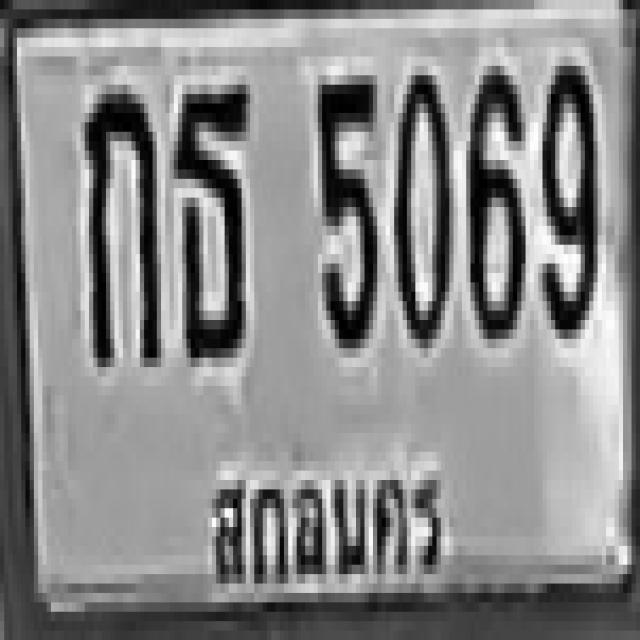0: (392, 66, 451, 339)
10GorGai: (80, 85, 157, 358)
33ThorThong: (169, 75, 246, 358)
5: (314, 66, 373, 339)
6: (466, 56, 522, 330)
9: (538, 56, 594, 330)
SakonNakhon: (190, 437, 455, 610)
